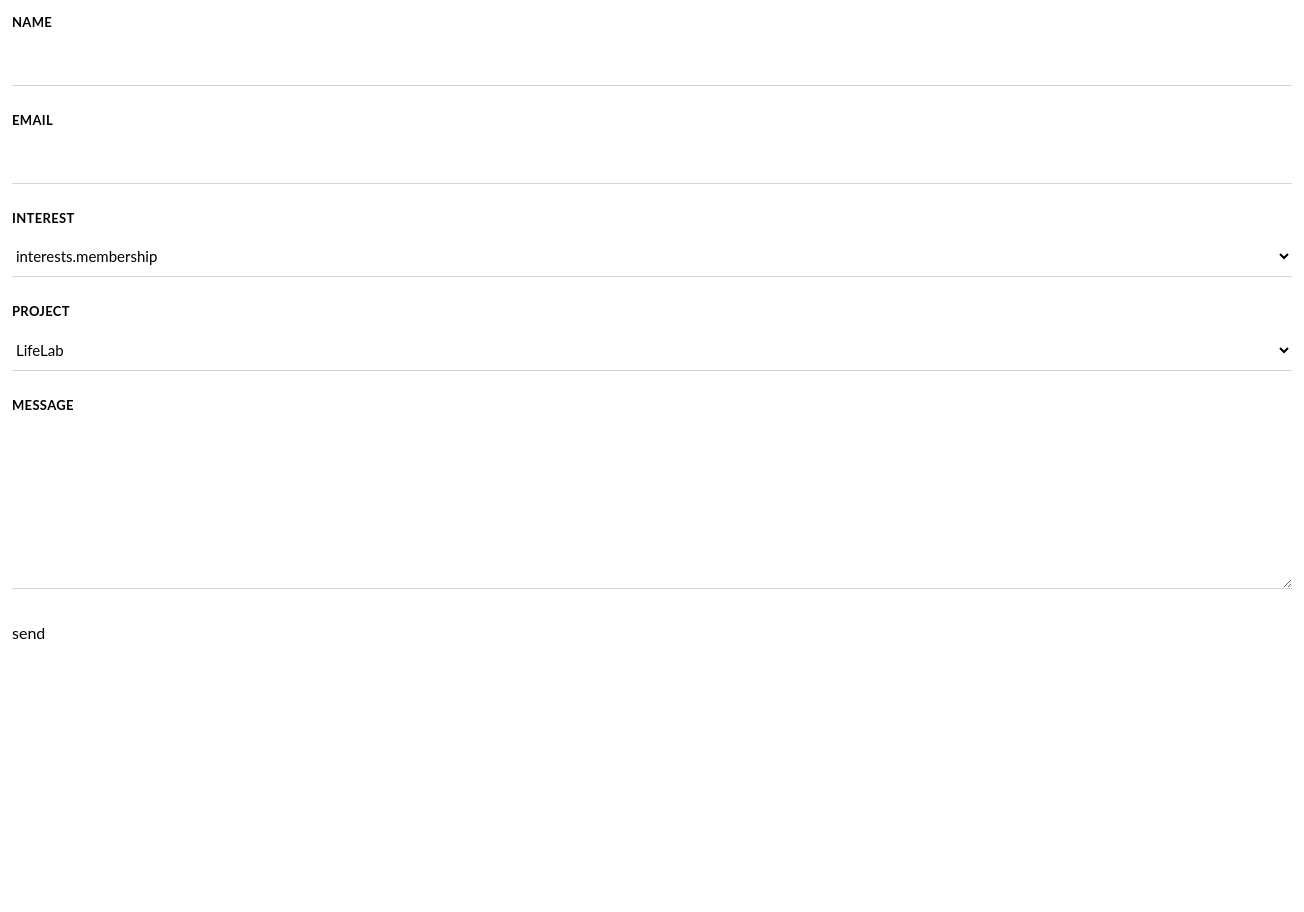
Scenario: JoinForm › builds and submits structured join metadata
In the field labelled "name": (652, 63) top-left (12, 41), bottom-right (1292, 86), type "Max Muster"
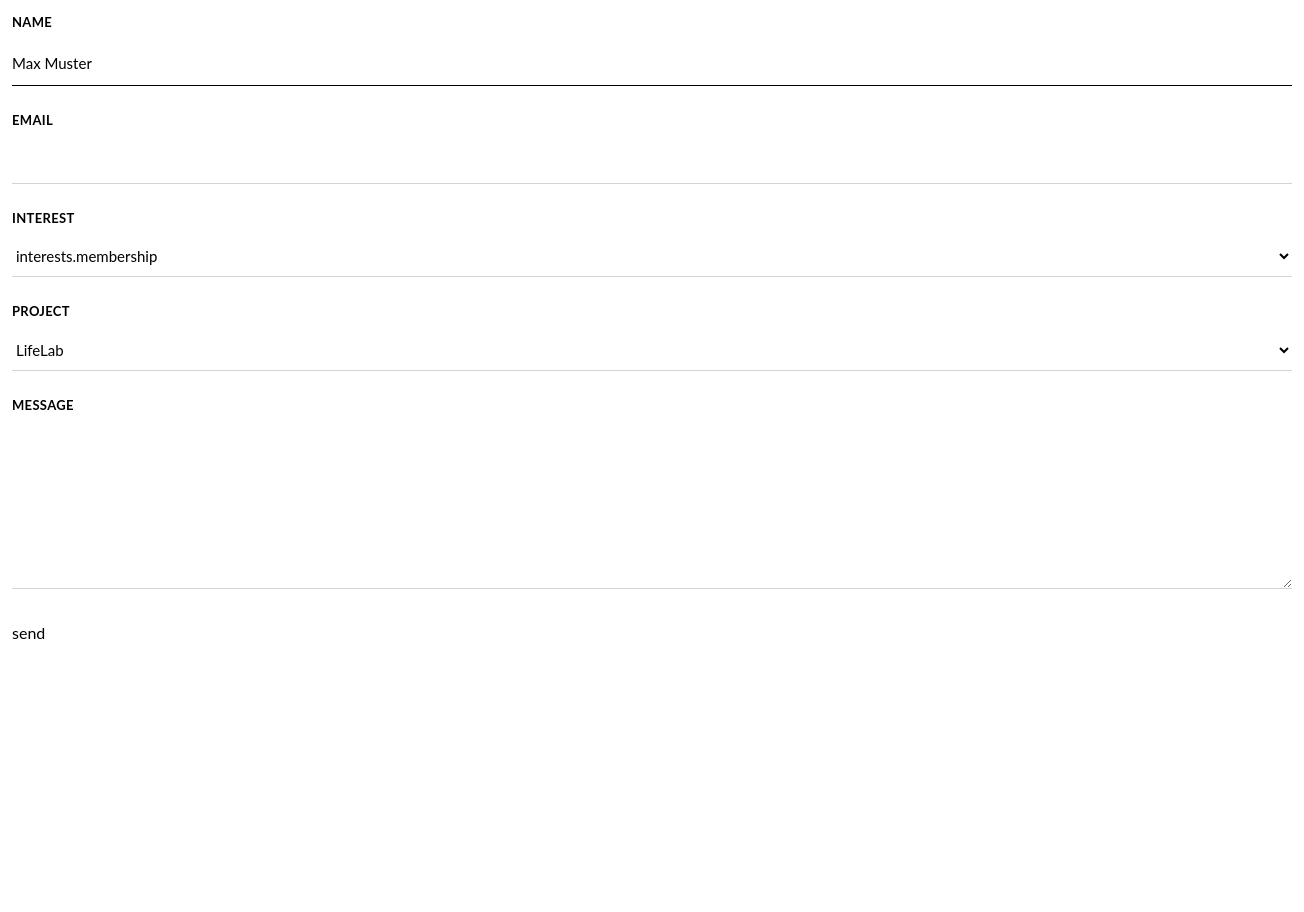
In the field labelled "email": (652, 161) top-left (12, 139), bottom-right (1292, 184), type "max@example.com"
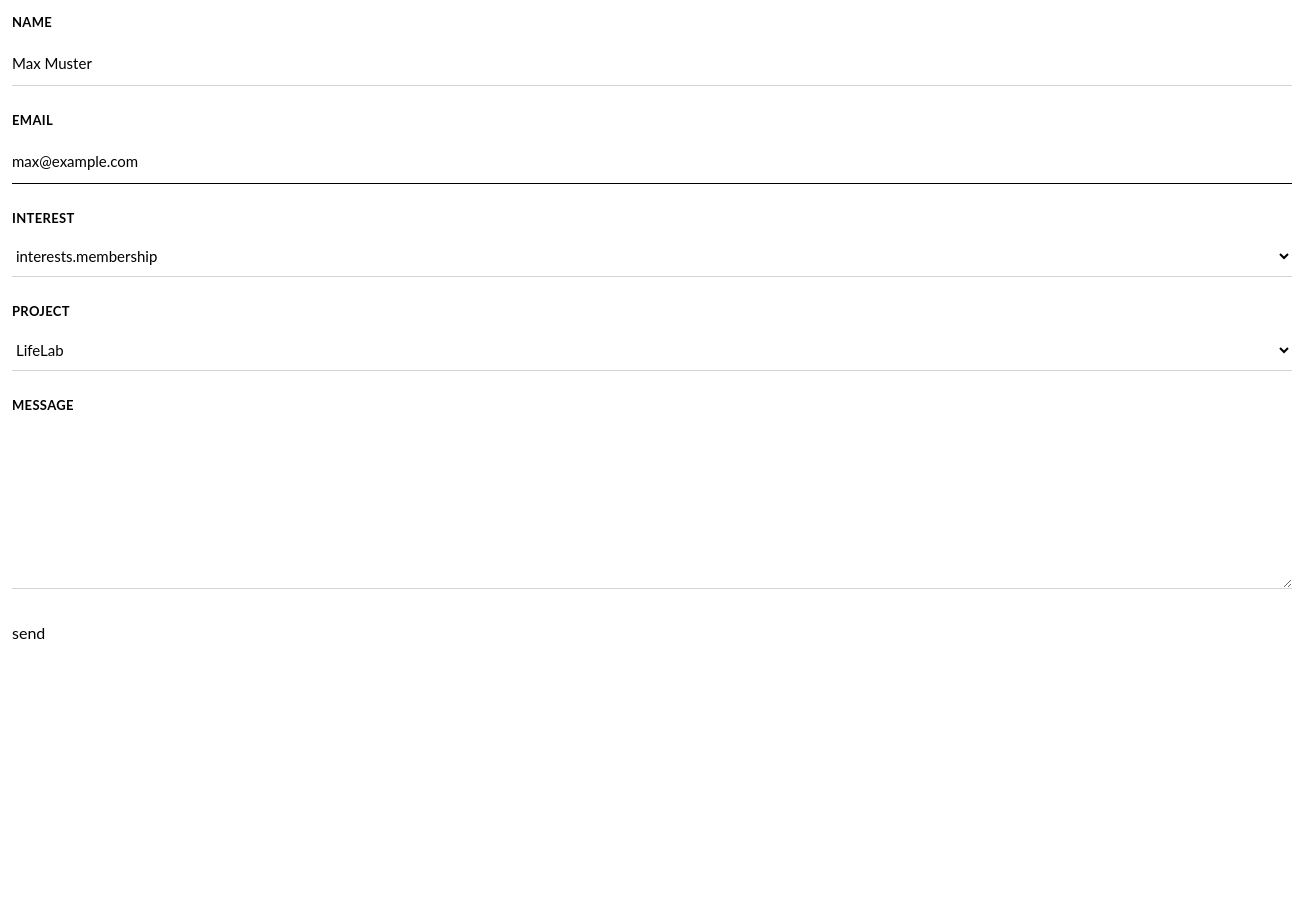
In the text box labelled "message": (652, 506) top-left (12, 424), bottom-right (1292, 589), type "Ich möchte gerne Mitglied werden."
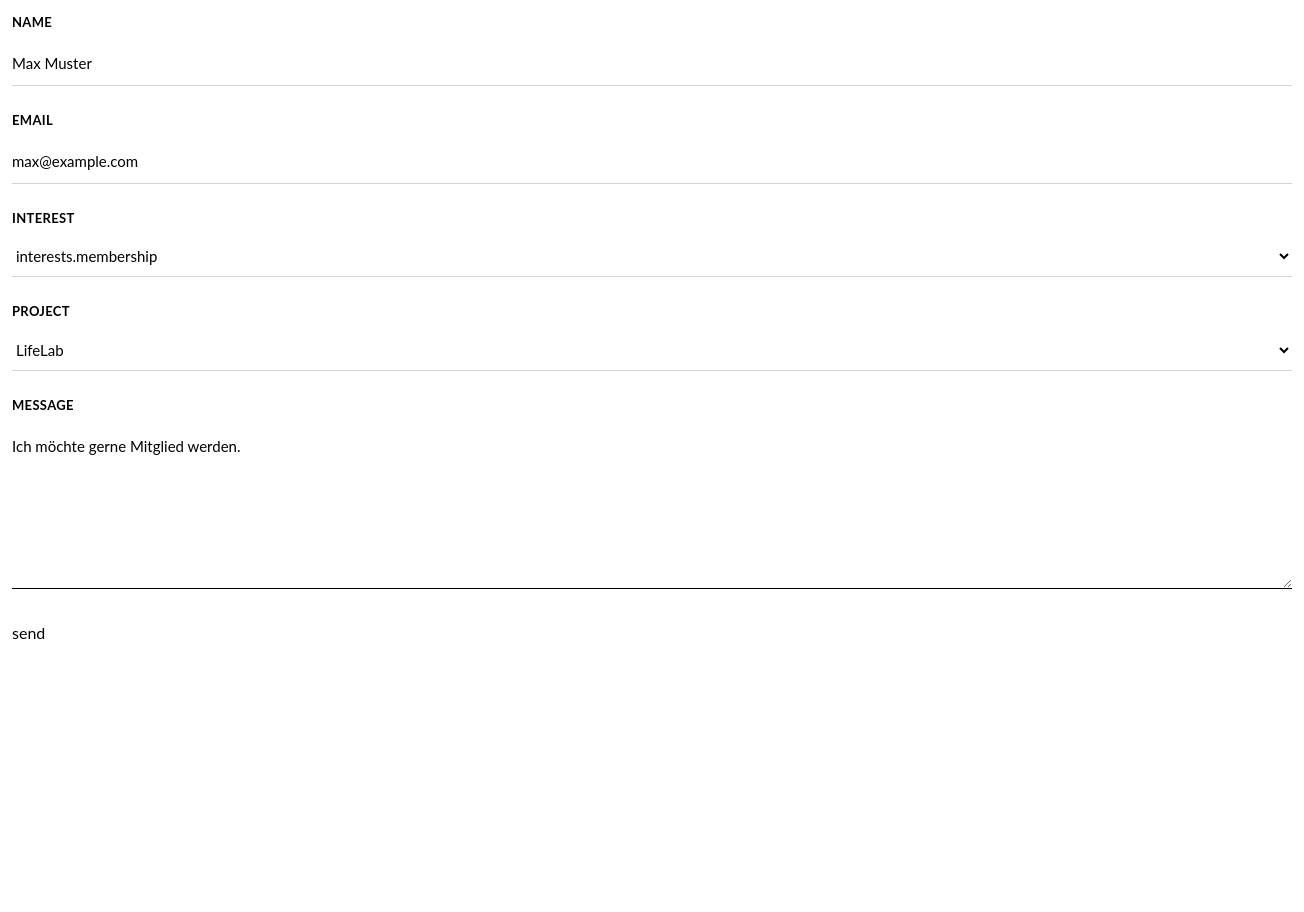
Click the button "send": (29, 632) top-left (12, 620), bottom-right (45, 645)
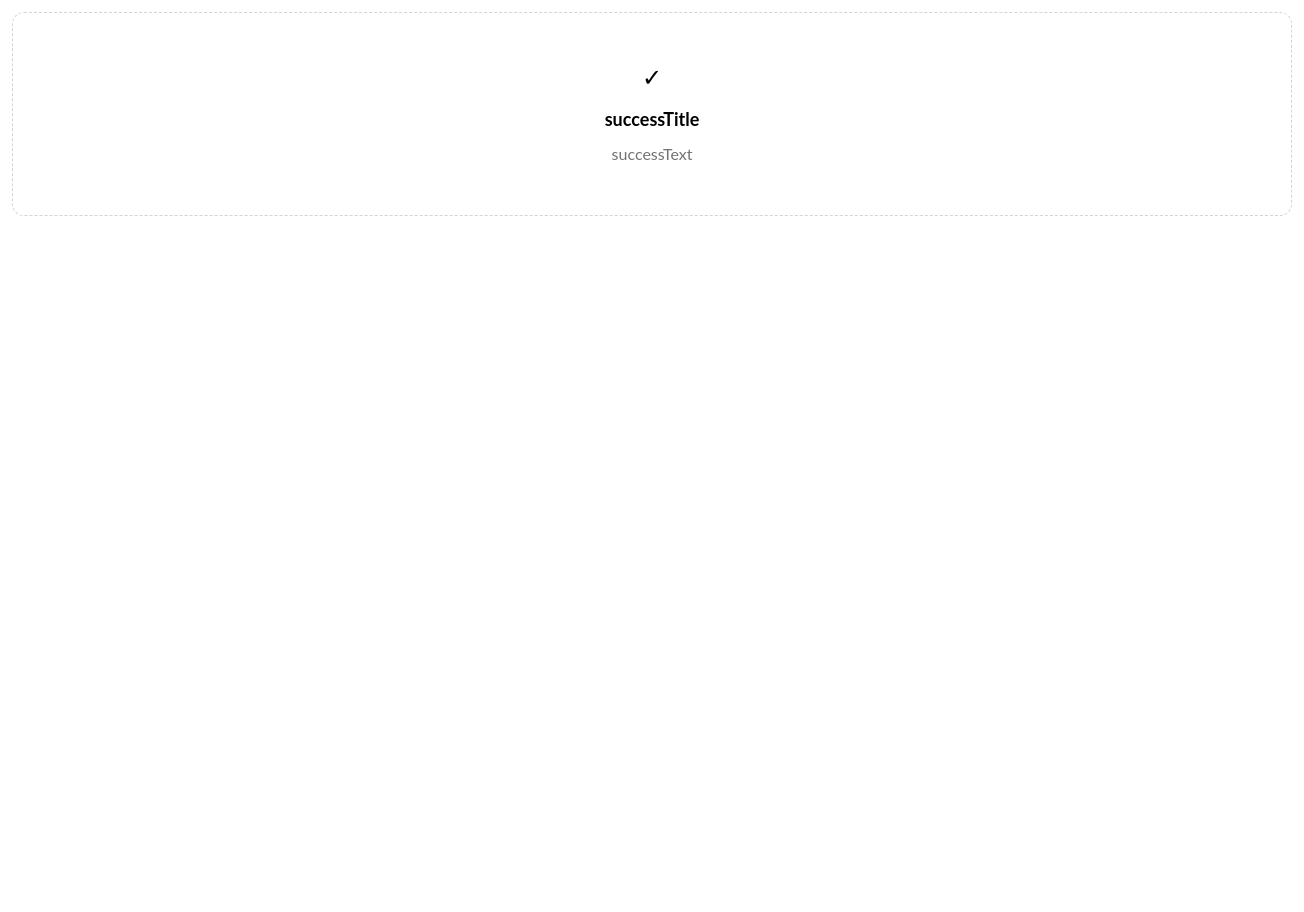
Now the text "successTitle" is shown, box top-left (605, 108), bottom-right (699, 130)
